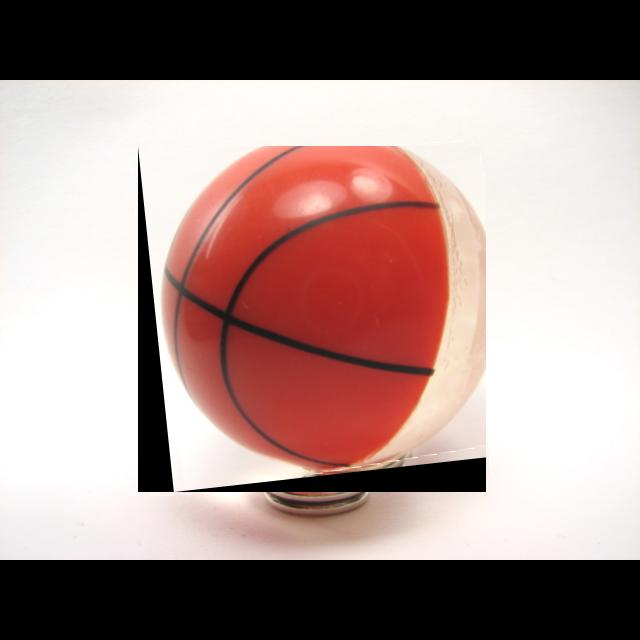Football: (138, 146, 486, 492)
